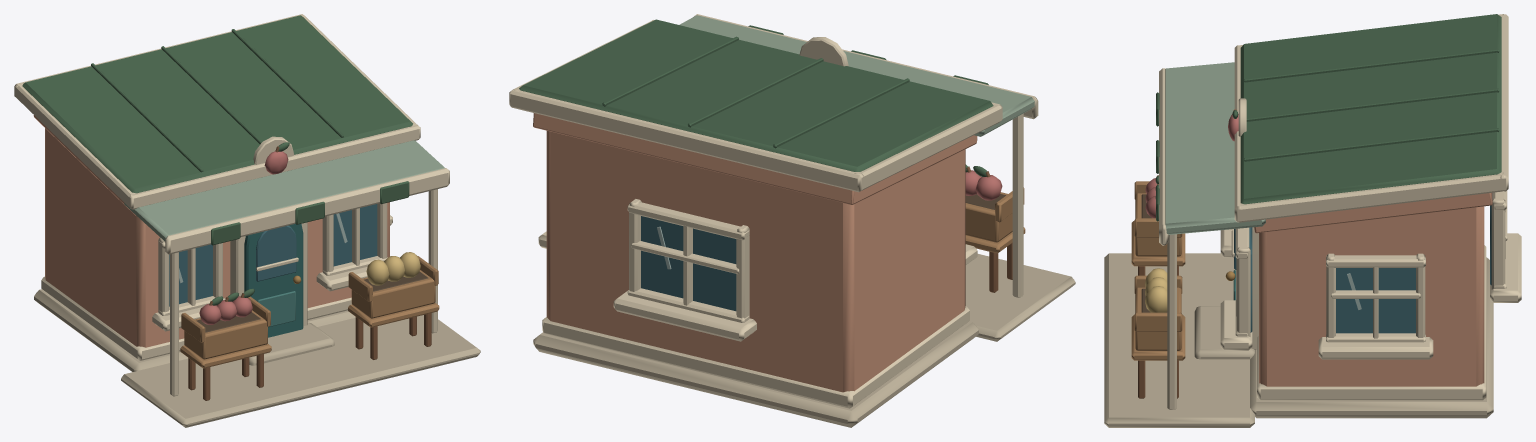
Rendered from grocer_level_2.glb.
The picture shows the model from 3 angles, left to right: view 1: azimuth 30°, elevation 25°; view 2: azimuth 150°, elevation 25°; view 3: azimuth 270°, elevation 25°; orthographic projection. The views are drawn at different scales.
Visible parts, largest first — view 1: grocer_level_2_runtime; view 2: grocer_level_2_runtime; view 3: grocer_level_2_runtime.
Boxes of the visible parts, x1,y1,x2,y2 form: grocer_level_2_runtime: (14,14,480,427); grocer_level_2_runtime: (509,14,1075,427); grocer_level_2_runtime: (1104,14,1521,427).
Size of the model in its own units: 3.84 by 2.69 by 3.97.
